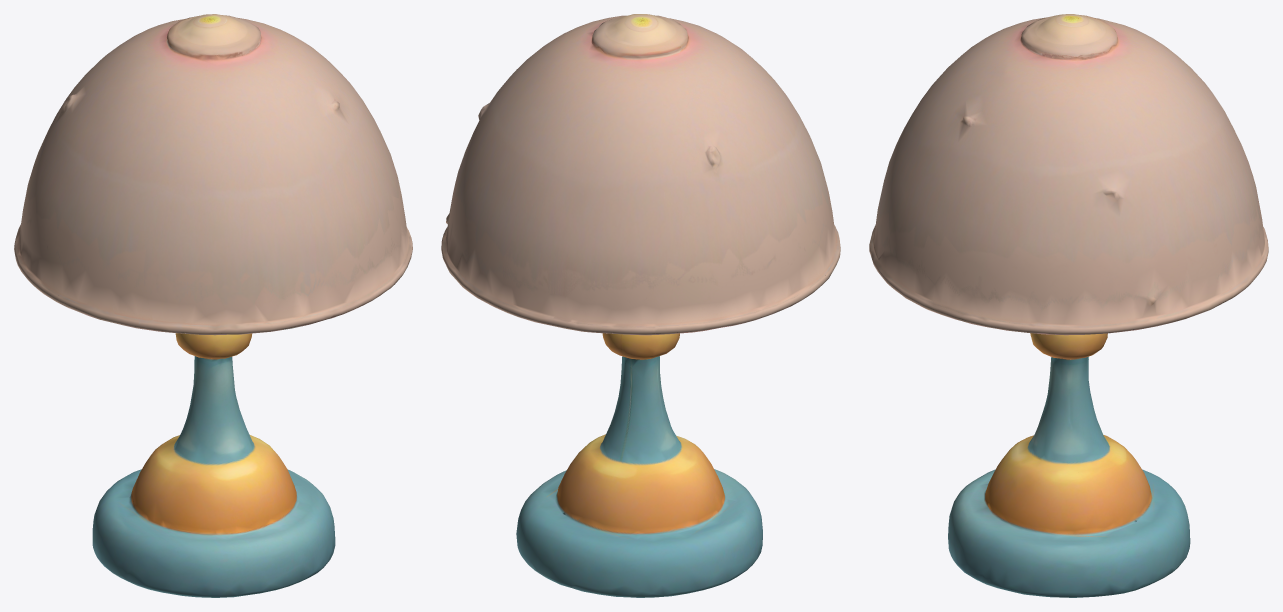
Rendered from lamp.glb.
3 renders of one model, left to right at view 1: azimuth 30°, elevation 25°; view 2: azimuth 150°, elevation 25°; view 3: azimuth 270°, elevation 25°, orthographic.
Size of the model in its own units: 44680 by 65622 by 44712.
1 material, 1 textured.
